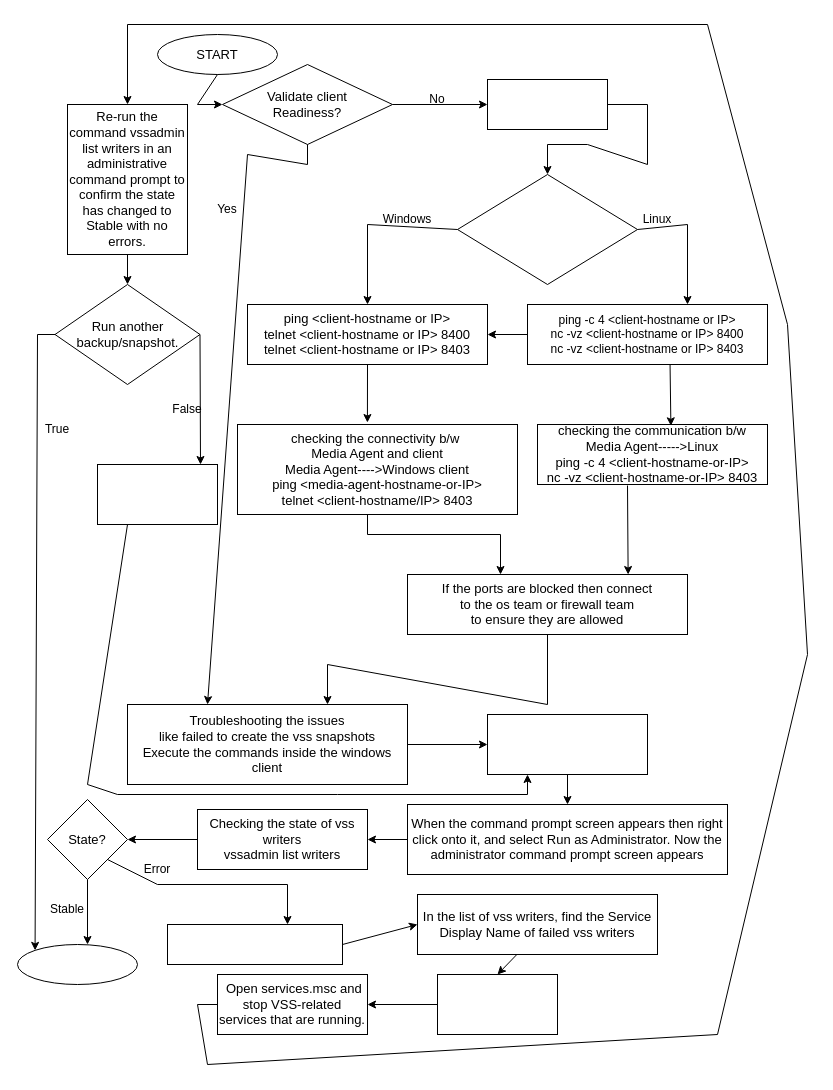
The diagram is 833 pixels wide and 1090 high, and some of its shapes have lost their labels. The shapes that lost their labels are listed below. From the top down, each one's centre as x and y in pixels, then its label:
point (547, 104): Troubleshoot further
point (547, 229): CommServe is installed on which operating system
point (157, 494): Restart the server shutdown / r / t 0
point (567, 744): Click the start button and type CMD
point (77, 964): END
point (254, 944): Make a list of all failed vss writers
point (497, 1004): Restart the services for the failed vss writers
